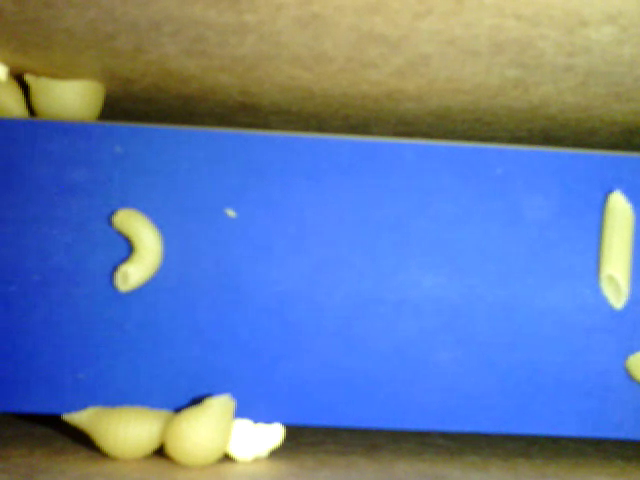elbow: (110, 204, 163, 295)
penne: (599, 184, 635, 311)
shell: (60, 401, 180, 462), (167, 390, 240, 466), (15, 70, 115, 121)
